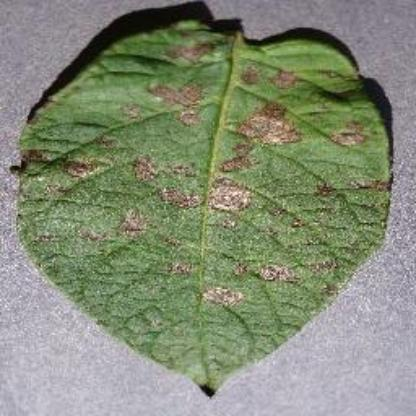Early-Blight: (13, 13, 393, 400)
